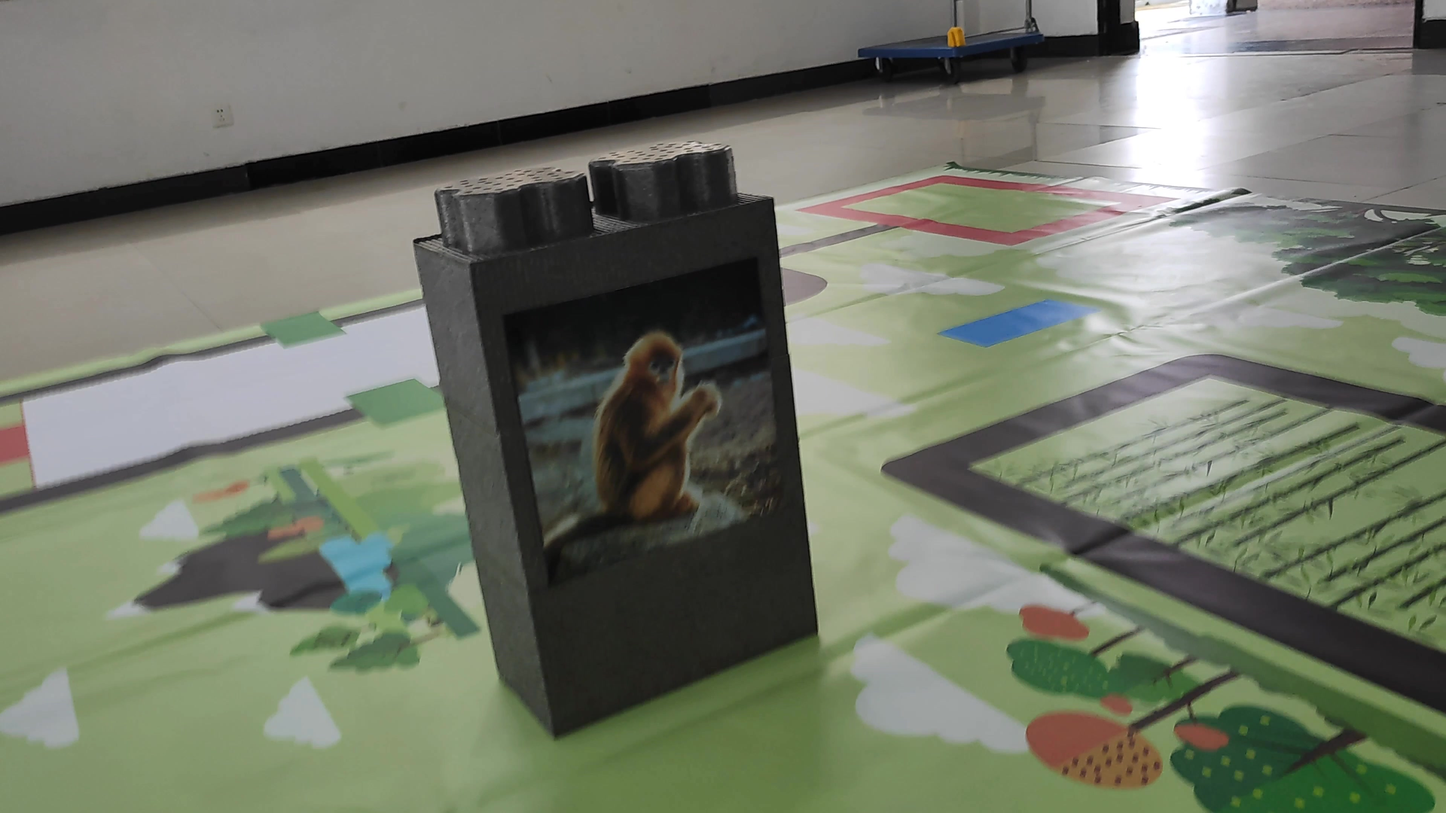monkey: (514, 281, 792, 568)
